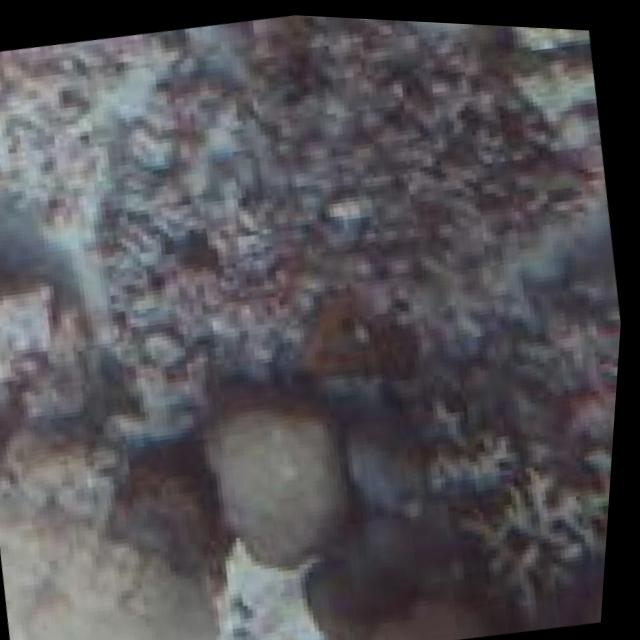Dead Coral: (44, 3, 639, 404)
